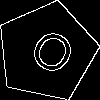O: (21, 26, 79, 86)
